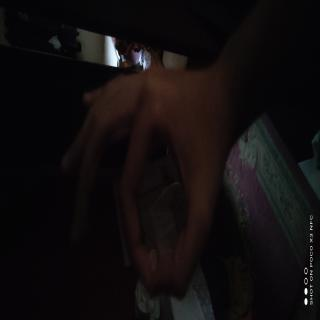Space: (12, 136, 120, 320)
